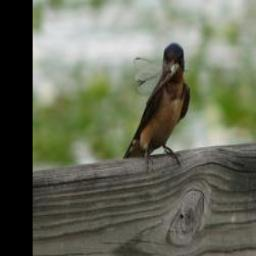Swallow: (122, 41, 190, 175)
